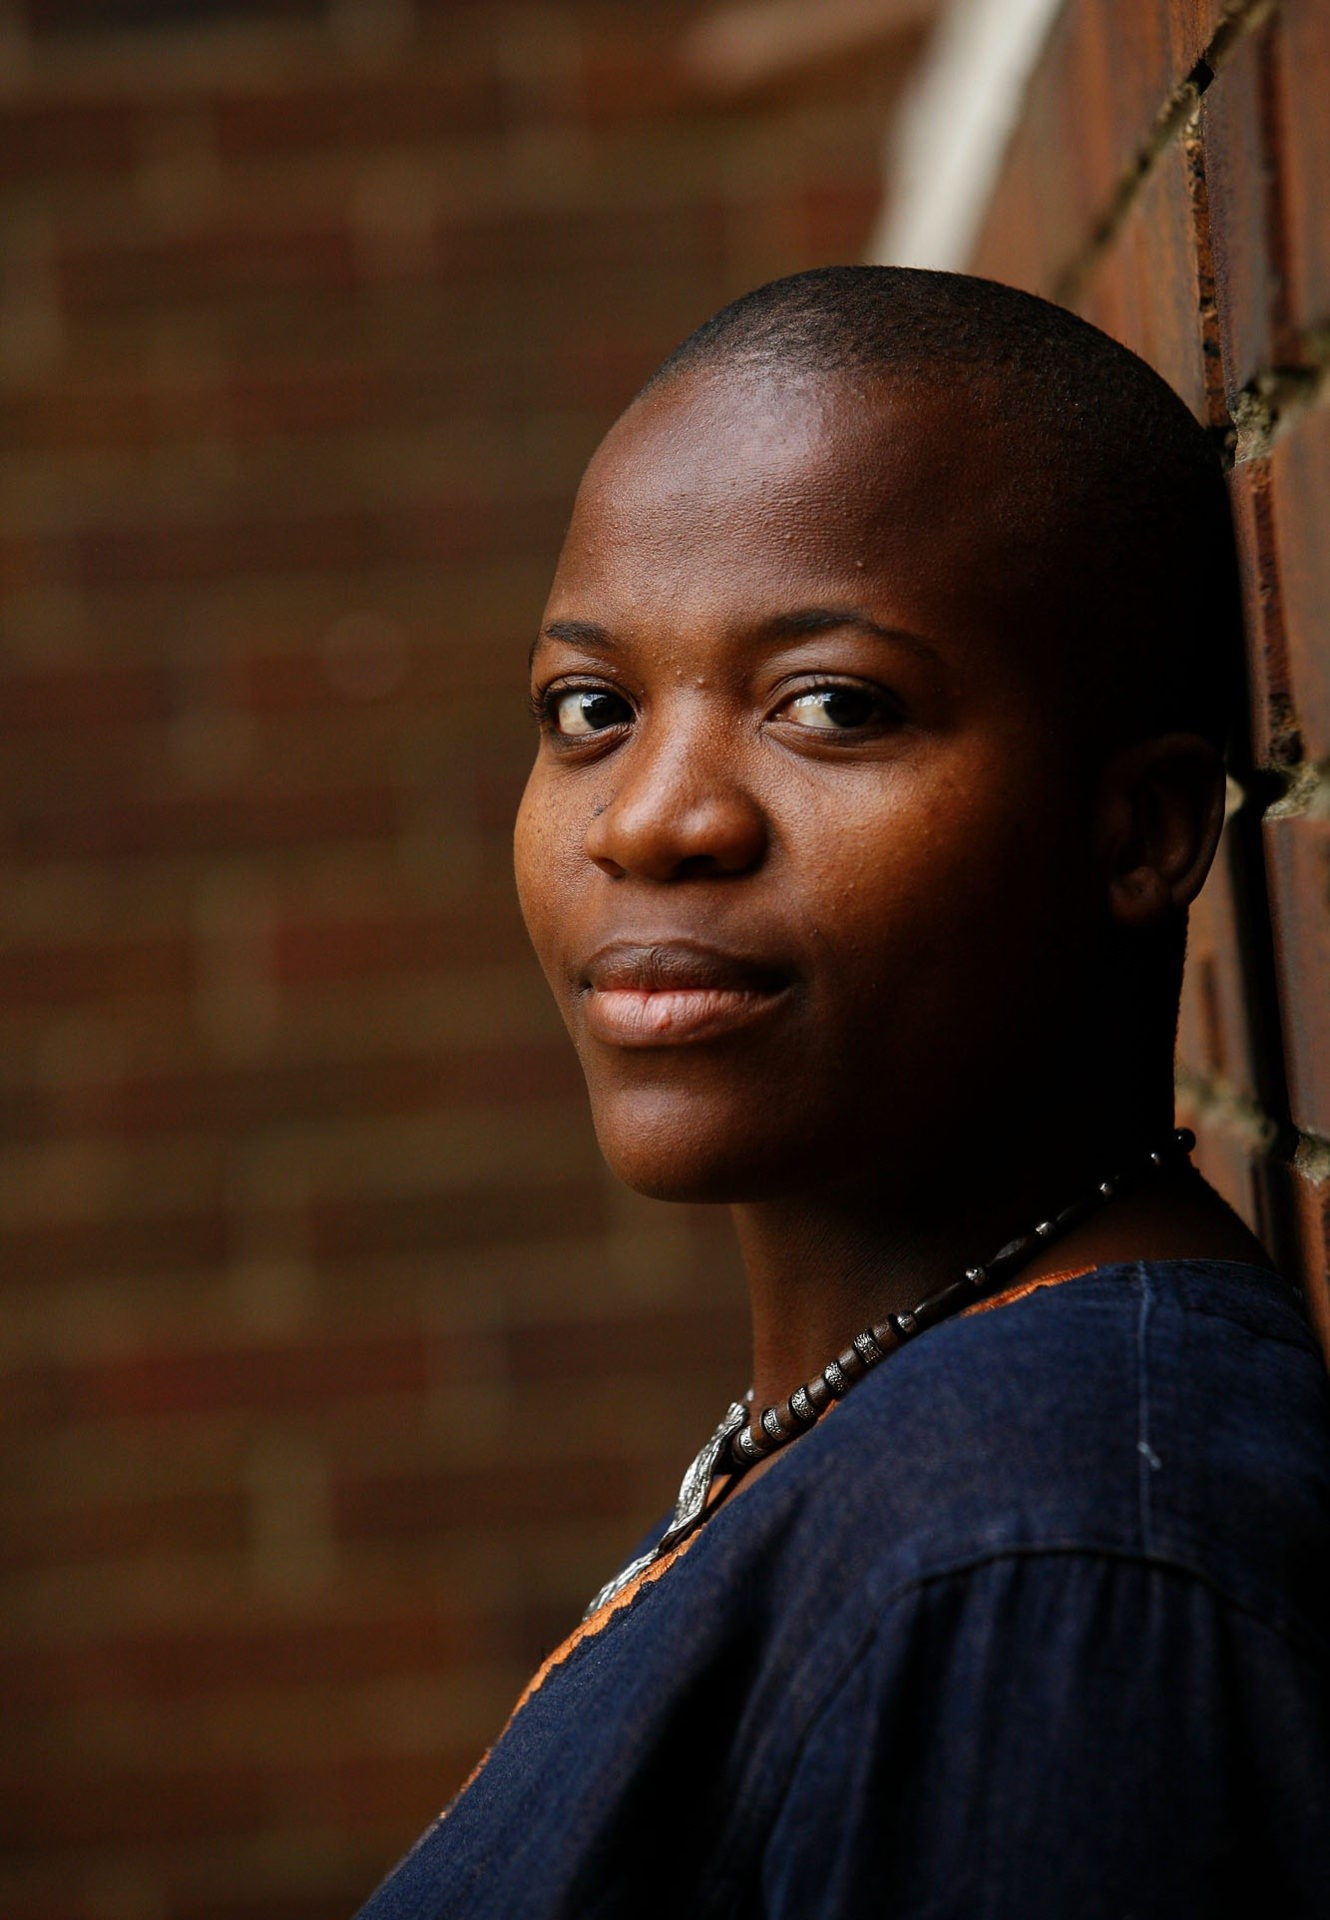face_no_mask: (509, 273, 1254, 1202)
